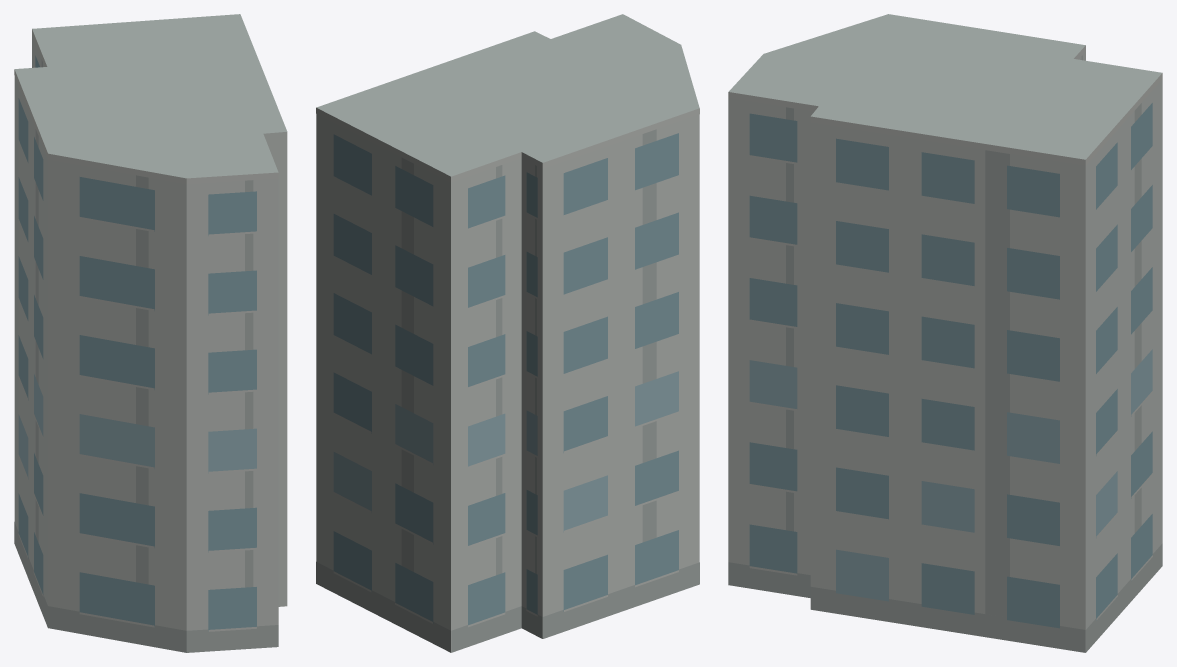
File: survey-upis-32522565.glb
3 renders of one model, left to right at view 1: azimuth 30°, elevation 25°; view 2: azimuth 150°, elevation 25°; view 3: azimuth 270°, elevation 25°, orthographic. The views are drawn at different scales.
Visible parts, largest first — view 1: survey-upis-32522565.tmp; view 2: survey-upis-32522565.tmp; view 3: survey-upis-32522565.tmp.
Boxes of the visible parts, x1,y1,x2,y2 form: survey-upis-32522565.tmp: [14, 14, 287, 652]; survey-upis-32522565.tmp: [316, 14, 699, 652]; survey-upis-32522565.tmp: [728, 14, 1162, 652].
Size of the model in its own units: 12.24 by 19.3 by 15.41.
